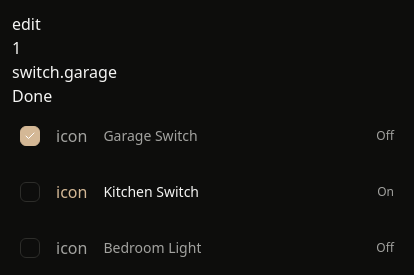
Device Selection Flow › clicking devices in edit mode › should add device to selection when clicking unselected device
expect the text with test id "count" reads "1": met, box [12,37,21,59]
Note: Click kitchen switch to add to selection
Click the button "icon Kitchen Switch On" at point(72, 192), box [12,164,402,220]
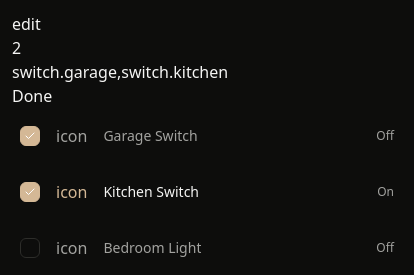
expect the text with test id "selected-ids" shows "switch.garage": met, box [12,61,228,83]
expect the text with test id "count" reads "2": met, box [12,37,21,59]
expect the text with test id "selected-ids" shows "switch.kitchen": met, box [12,61,228,83]
